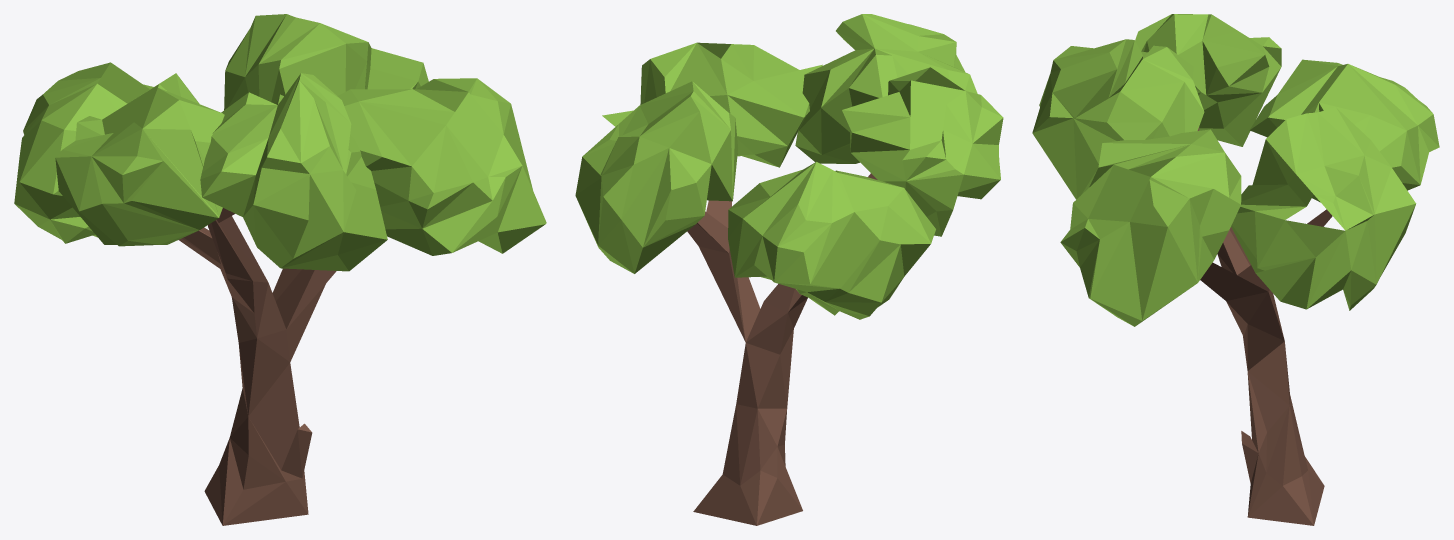
File: tree2.glb
The picture shows the model from 3 angles, left to right: view 1: azimuth 30°, elevation 25°; view 2: azimuth 150°, elevation 25°; view 3: azimuth 270°, elevation 25°; orthographic projection. The views are drawn at different scales.
Visible parts, largest first — view 1: Node; view 2: Node; view 3: Node.
Part boxes in pixels (<box>): Node: <box>14,14,546,525</box>; Node: <box>575,14,1003,525</box>; Node: <box>1032,14,1439,525</box>.
Size of the model in its own units: 2.19 by 2.46 by 2.03.
